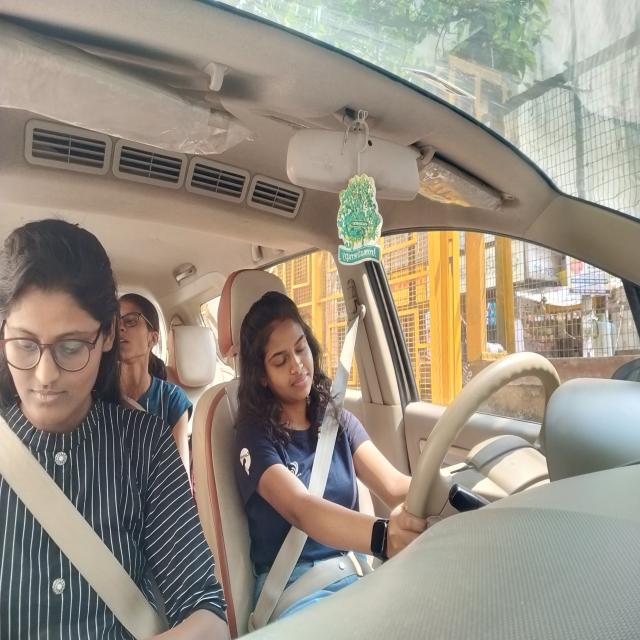drowsy: (240, 302, 327, 408)
person: (0, 242, 114, 422), (114, 283, 162, 373)
